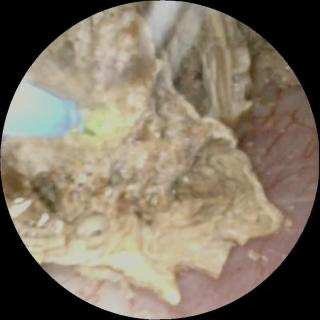fiber: (8, 83, 77, 135)
laser: (91, 111, 111, 135)
stone: (5, 6, 297, 303)
